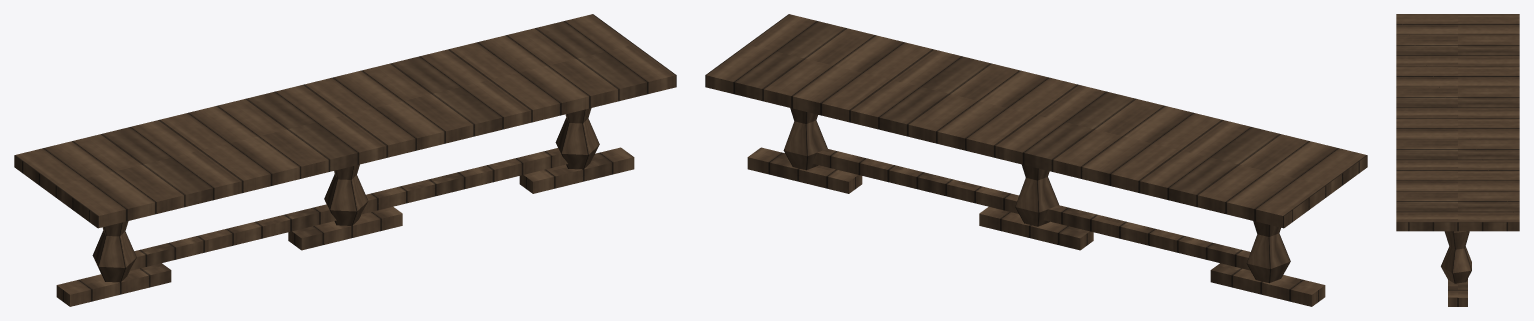
Rendered from Table_Carved_Long_1_LOD1.gltf.
The picture shows the model from 3 angles, left to right: view 1: azimuth 30°, elevation 25°; view 2: azimuth 150°, elevation 25°; view 3: azimuth 270°, elevation 25°; orthographic projection. The views are drawn at different scales.
Visible parts, largest first — view 1: Table_Carved_Long_1_LOD1; view 2: Table_Carved_Long_1_LOD1; view 3: Table_Carved_Long_1_LOD1.
Boxes of the visible parts, x1=… form: Table_Carved_Long_1_LOD1: x1=14, y1=14, x2=676, y2=306; Table_Carved_Long_1_LOD1: x1=705, y1=14, x2=1367, y2=306; Table_Carved_Long_1_LOD1: x1=1396, y1=14, x2=1519, y2=306.
Bounding box in the file's own units: 4 × 0.78 × 1.
Materials: 1 (1 with a texture image).
